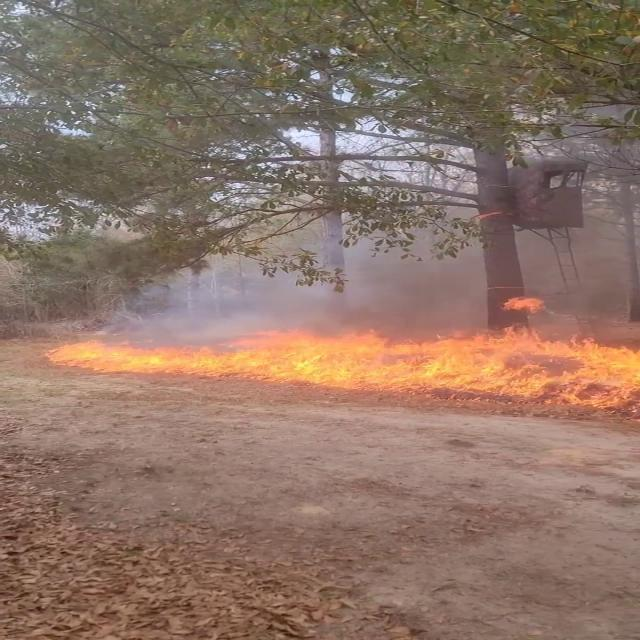Fire: (41, 326, 638, 392)
Smoke: (160, 190, 640, 326)
